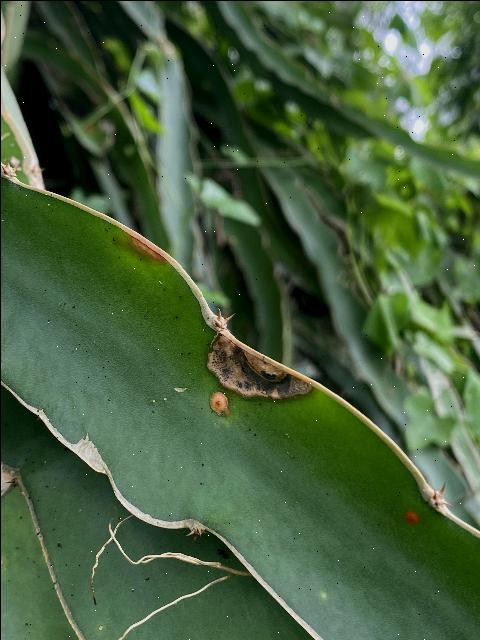stemcanker: (205, 322, 315, 406), (42, 400, 119, 506), (105, 220, 165, 263), (208, 387, 235, 420)
